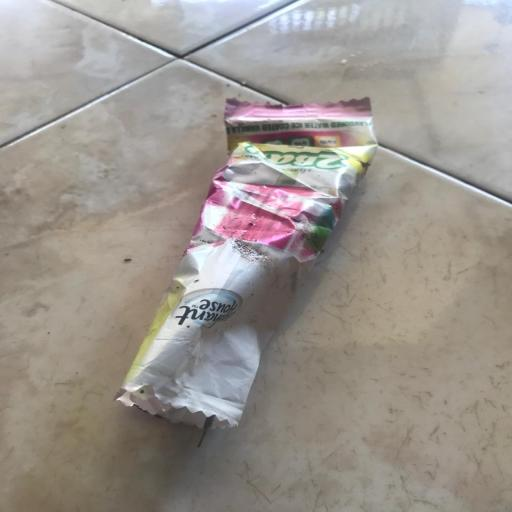waste: (95, 89, 395, 446)
